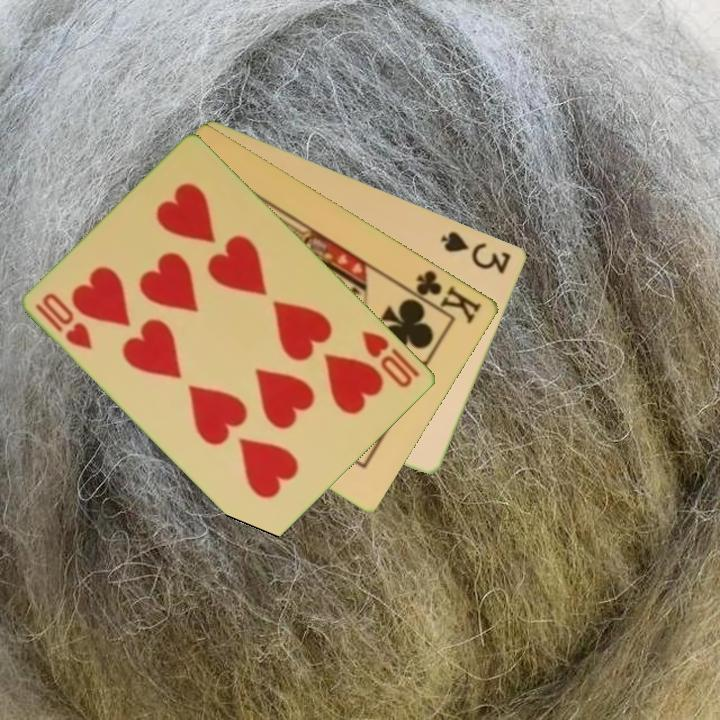10h: (358, 326, 424, 391), (32, 289, 96, 353)
3s: (438, 227, 515, 277)
Kc: (403, 266, 485, 327)
